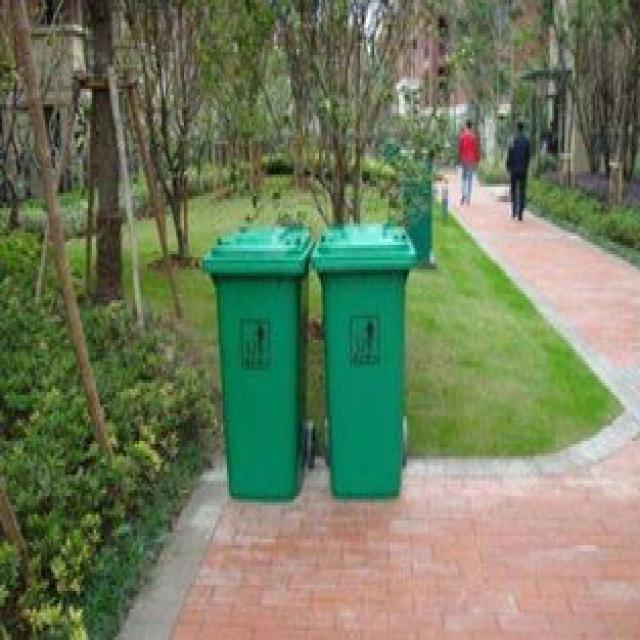garbage_bin: (200, 227, 311, 496), (309, 221, 415, 496)
